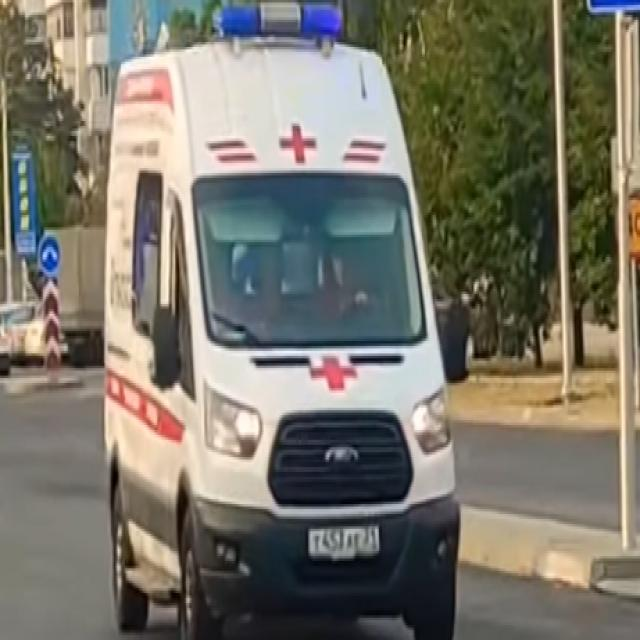ambulance: (105, 1, 462, 640)
